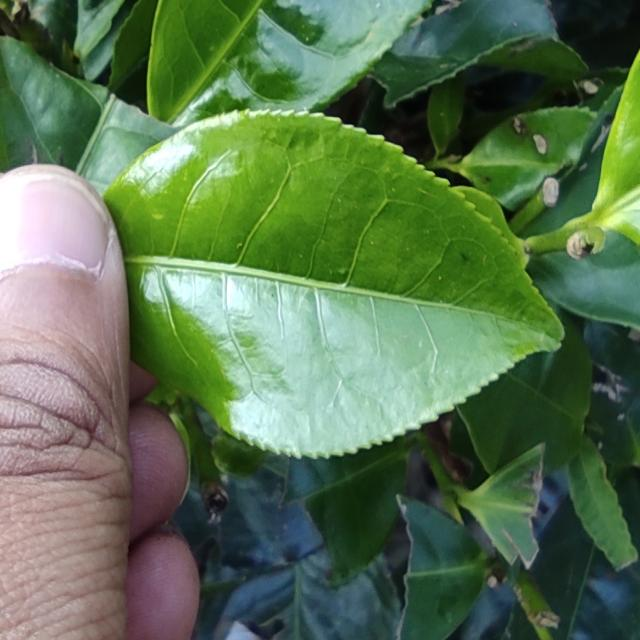Category C(4-7 days): (57, 93, 571, 469)
